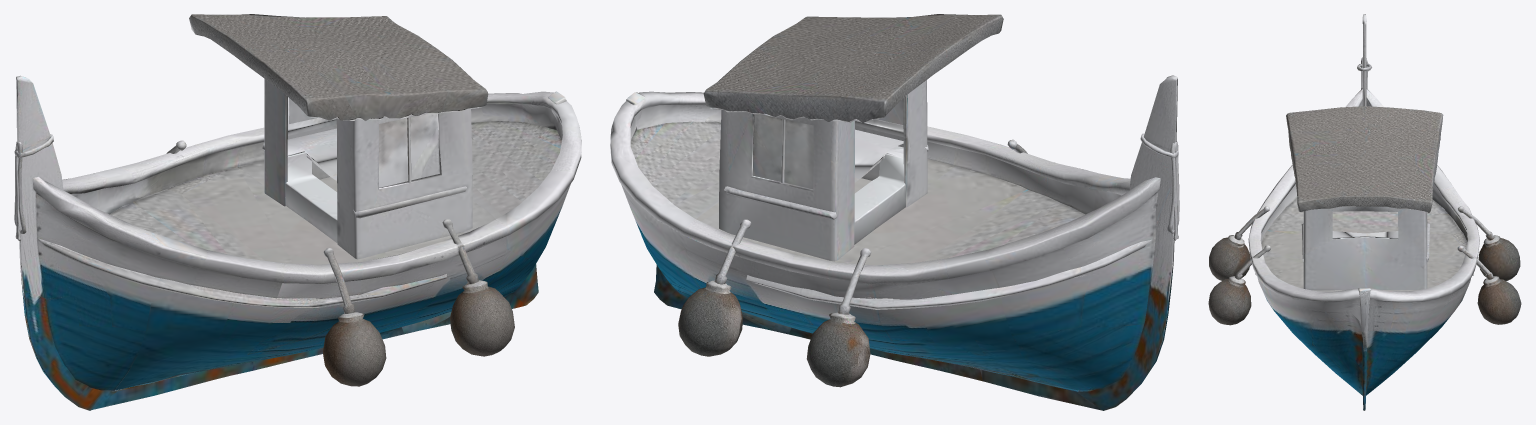
File: dhoni.glb
3 views of the same model, side by side, from view 1: azimuth 30°, elevation 25°; view 2: azimuth 150°, elevation 25°; view 3: azimuth 270°, elevation 25° (orthographic). The views are drawn at different scales.
Size of the model in its own units: 3.23 by 2 by 2.43.
1 material, 1 textured.
